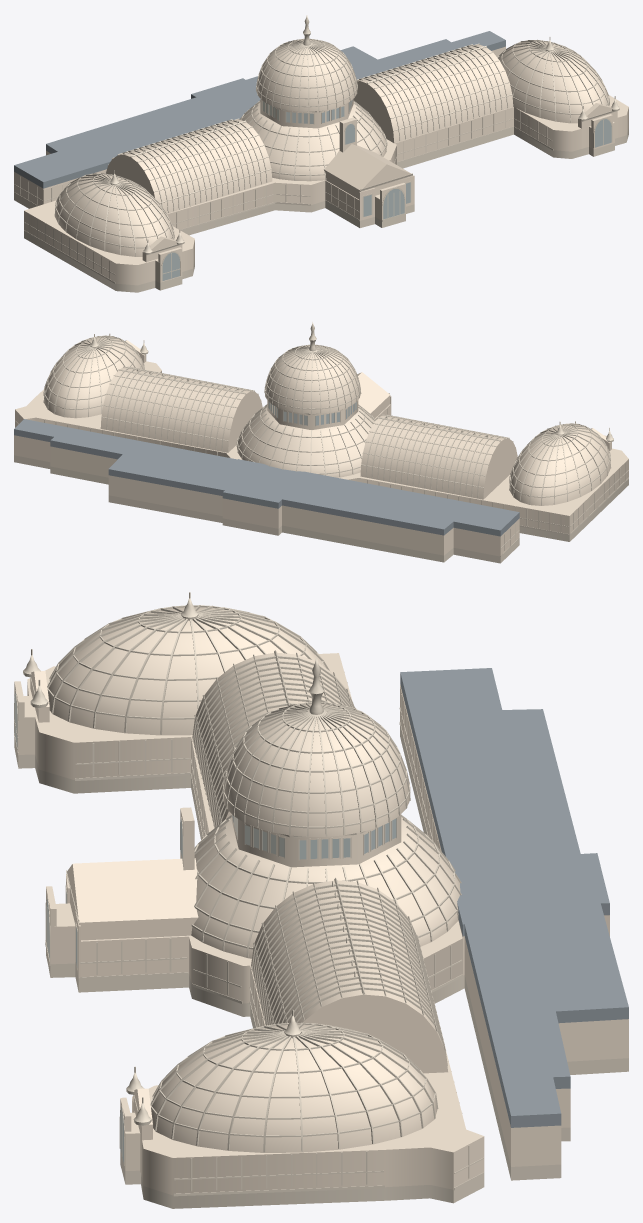
Rendered from detail.glb.
The picture shows the model from 3 angles, top to bottom: view 1: azimuth 30°, elevation 25°; view 2: azimuth 150°, elevation 25°; view 3: azimuth 270°, elevation 25°; orthographic projection. The views are drawn at different scales.
Parts seen in each view (by area): view 1: trim, stone, roof, window; view 2: trim, stone, roof, window; view 3: trim, stone, roof, window.
Part boxes in pixels (bbox=[...]): trim: bbox=[14, 39, 628, 285]; stone: bbox=[14, 15, 628, 292]; roof: bbox=[14, 31, 505, 188]; window: bbox=[162, 99, 611, 280]; trim: bbox=[14, 336, 628, 556]; stone: bbox=[14, 322, 628, 563]; roof: bbox=[14, 419, 519, 536]; window: bbox=[268, 402, 356, 425]; trim: bbox=[14, 607, 628, 1195]; stone: bbox=[14, 592, 628, 1208]; roof: bbox=[400, 668, 628, 1127]; window: bbox=[14, 693, 396, 1162].
Bounding box in the file's own units: 75.63 × 20.73 × 38.91.
